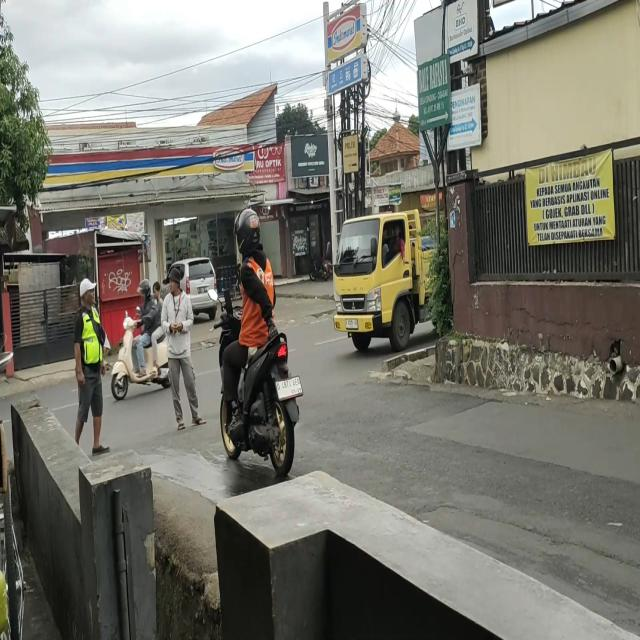helmet: (236, 207, 261, 250), (134, 278, 150, 304)
no-helmet: (153, 279, 160, 301)
